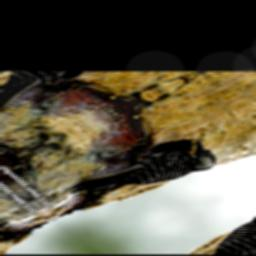Woodpecker: (54, 123, 227, 219)
